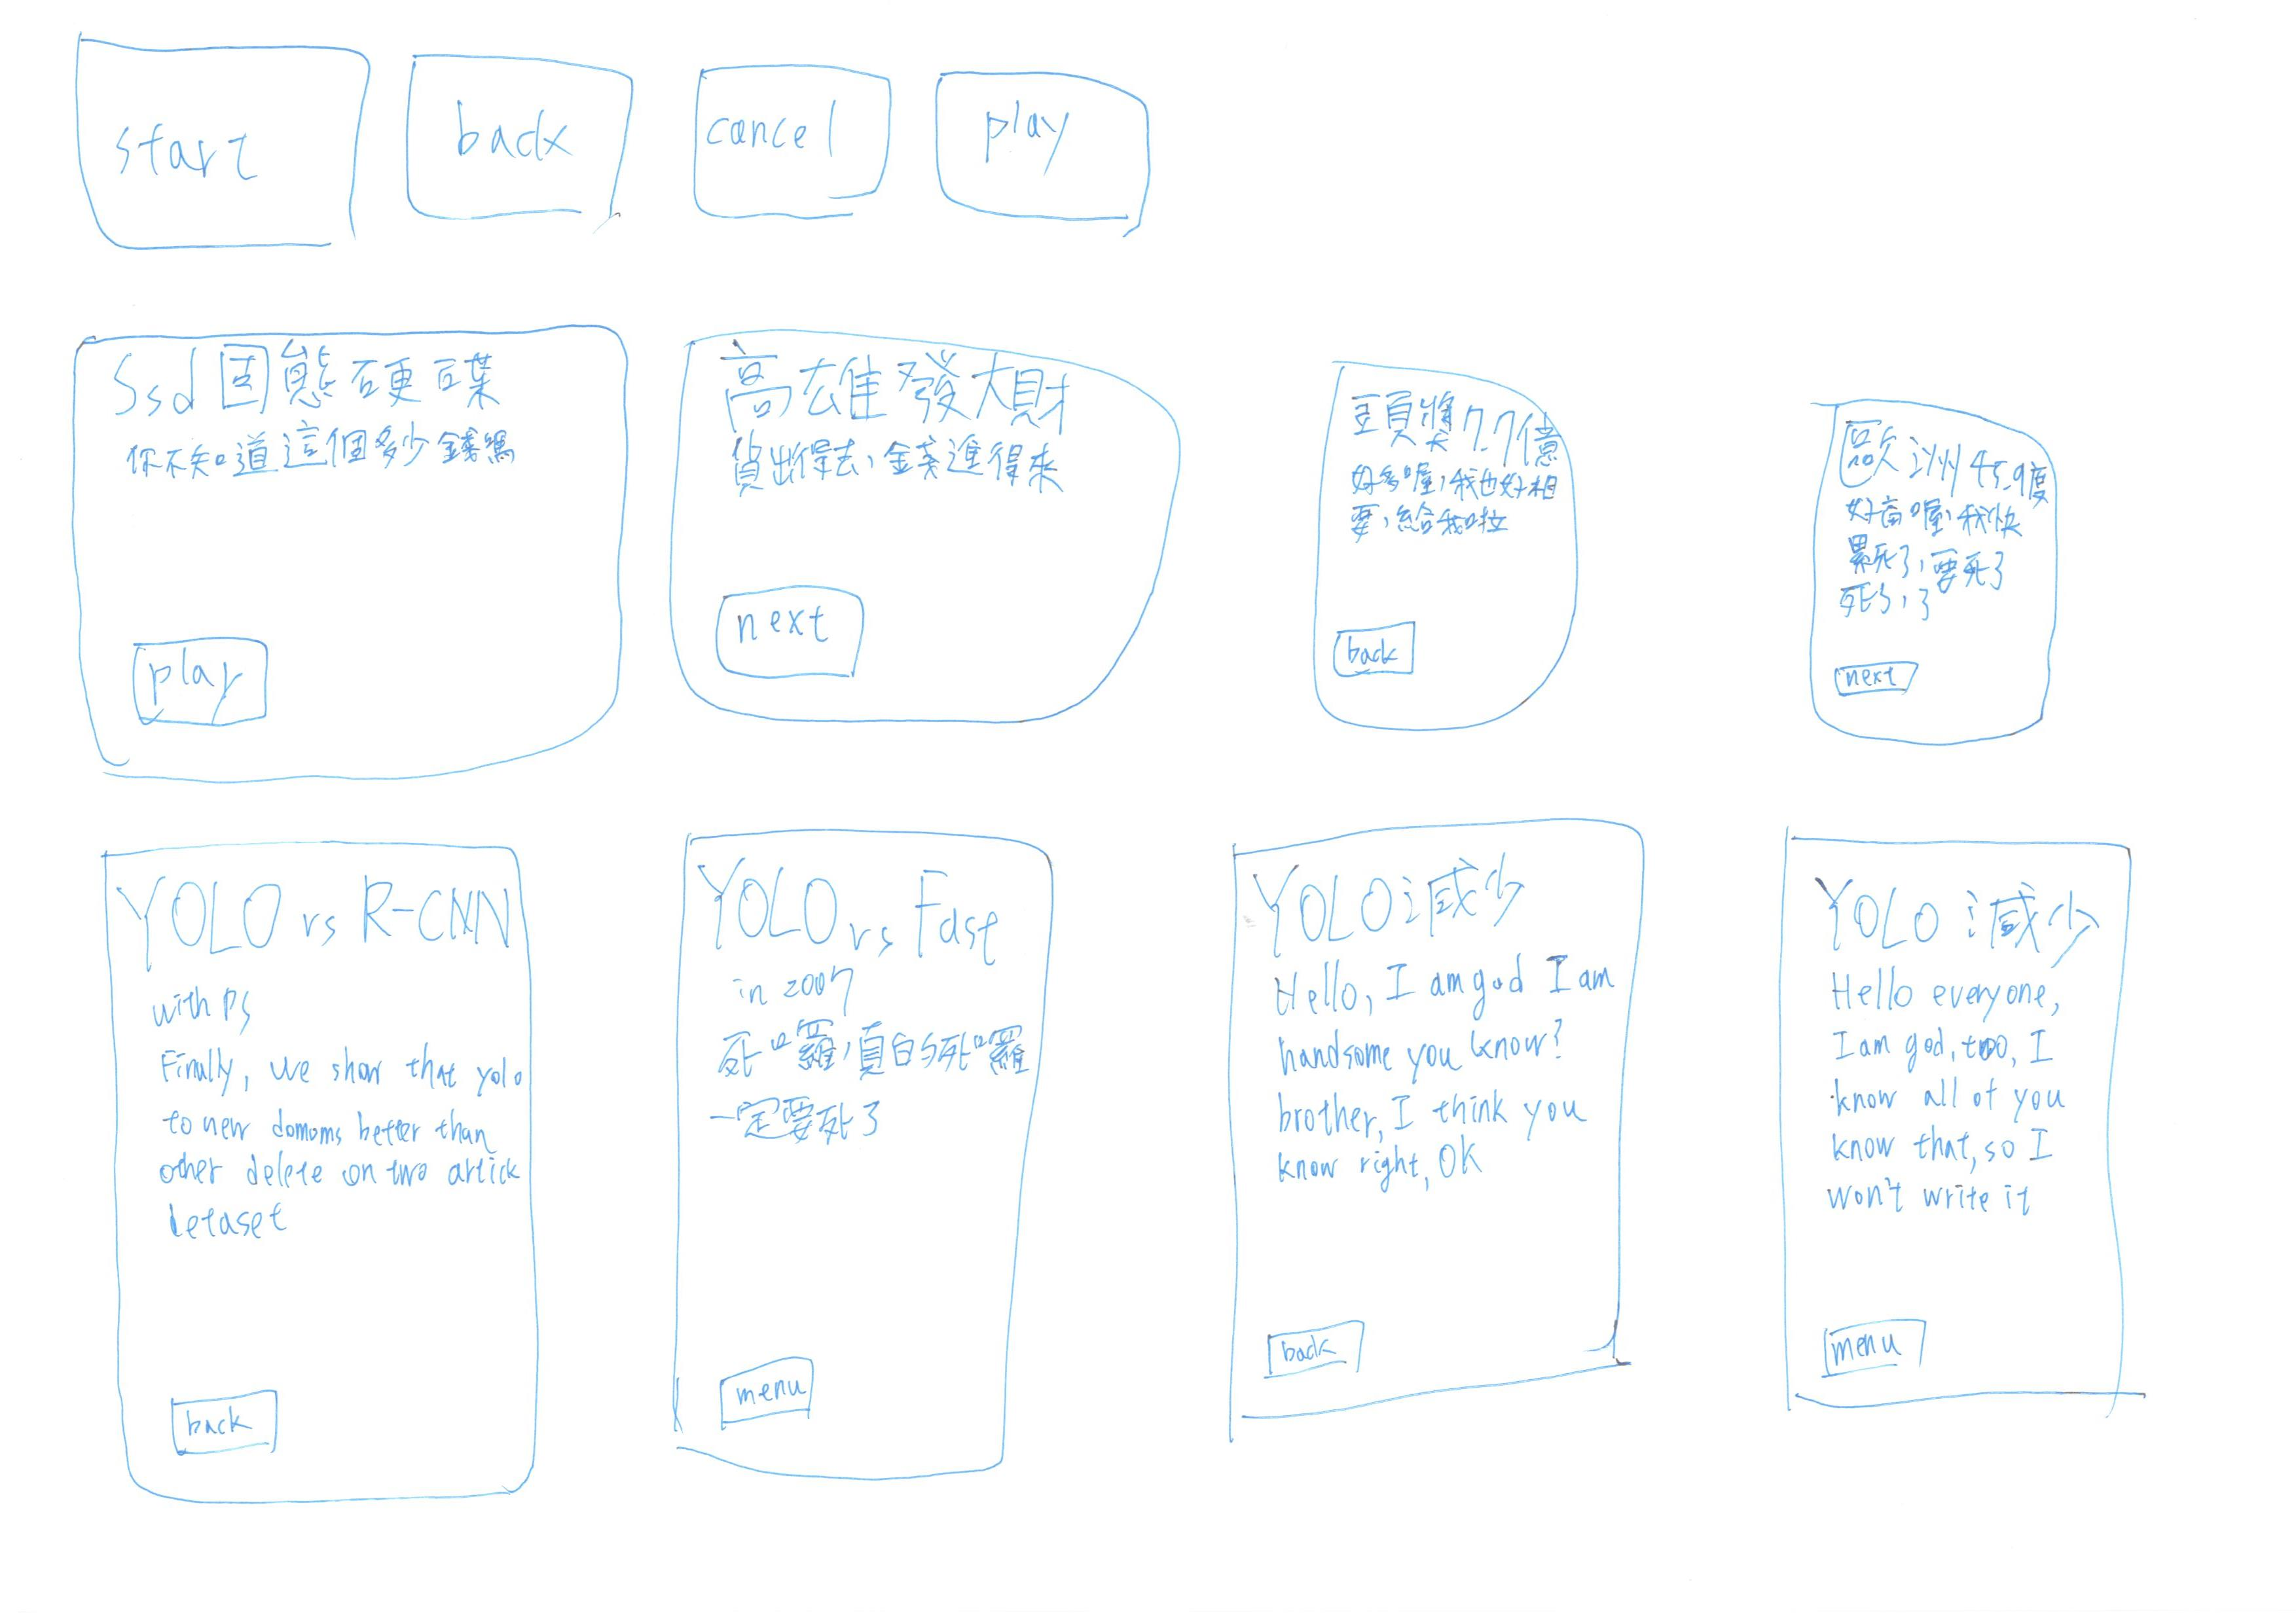back: (385, 26, 647, 258), (141, 1385, 313, 1468), (1257, 1308, 1387, 1399), (1322, 613, 1435, 696)
cancel: (666, 47, 907, 237)
menu: (698, 1338, 839, 1445), (1804, 1301, 1939, 1381)
next: (701, 573, 883, 696), (1820, 645, 1939, 708)
play: (919, 51, 1185, 257), (113, 622, 308, 758)
quadruple: (56, 826, 543, 1522), (608, 810, 1095, 1506), (1211, 791, 1698, 1487), (1732, 803, 2219, 1499), (56, 309, 654, 794), (643, 309, 1185, 787), (1294, 320, 1644, 756), (1772, 364, 2106, 770)
row: (25, 793, 2296, 1571), (25, 292, 2296, 801), (25, 11, 2296, 278)
small-title: (144, 852, 492, 972), (120, 332, 520, 415), (714, 854, 999, 965), (1832, 858, 2110, 970), (728, 352, 1090, 431), (1259, 865, 1540, 942), (1842, 418, 2043, 508), (1368, 380, 1570, 462)
start: (56, 9, 381, 283)
text: (135, 975, 531, 1281), (1264, 953, 1603, 1190), (1823, 960, 2090, 1218), (719, 951, 1021, 1164), (744, 422, 1085, 515), (128, 420, 534, 497), (1848, 492, 2016, 636), (1341, 459, 1565, 559)
